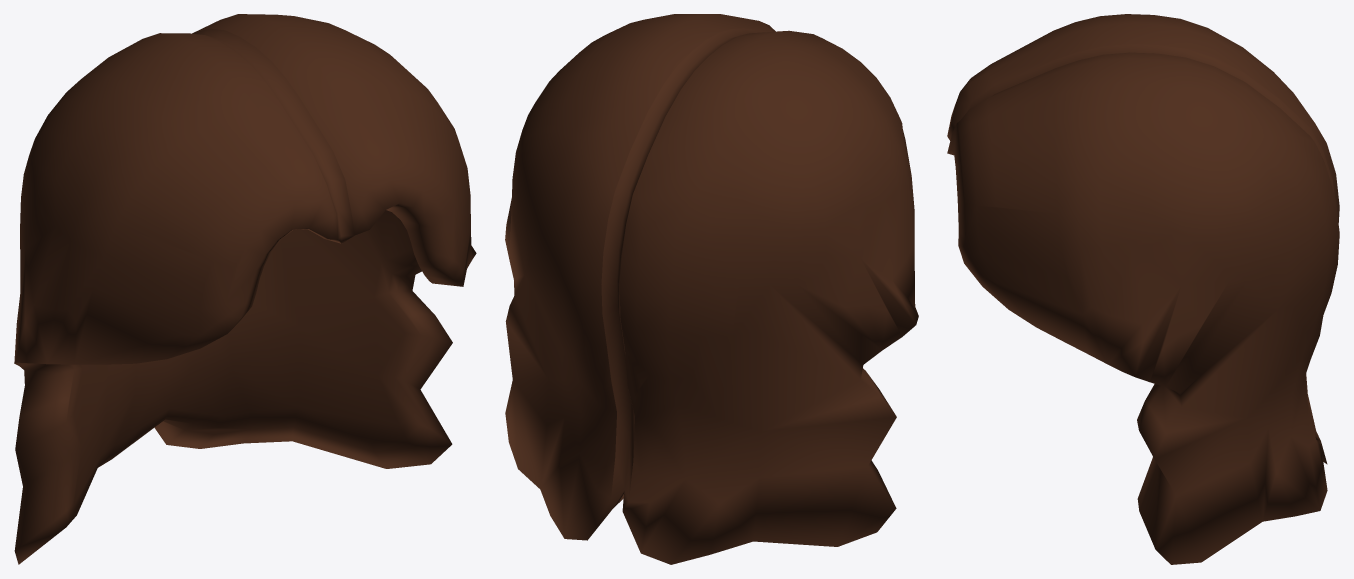
3 views of the same model, side by side, from view 1: azimuth 30°, elevation 25°; view 2: azimuth 150°, elevation 25°; view 3: azimuth 270°, elevation 25° (orthographic). The views are drawn at different scales.
Parts seen in each view (by area): view 1: hairLongWavy; view 2: hairLongWavy; view 3: hairLongWavy.
Boxes of the visible parts, box(x1,y1,x2,y2) form: hairLongWavy: box(14, 14, 476, 564); hairLongWavy: box(505, 14, 918, 564); hairLongWavy: box(947, 14, 1339, 564).
Bounding box in the file's own units: 0.6075 × 0.6329 × 0.5076.
Materials: 1 (1 with a texture image).
